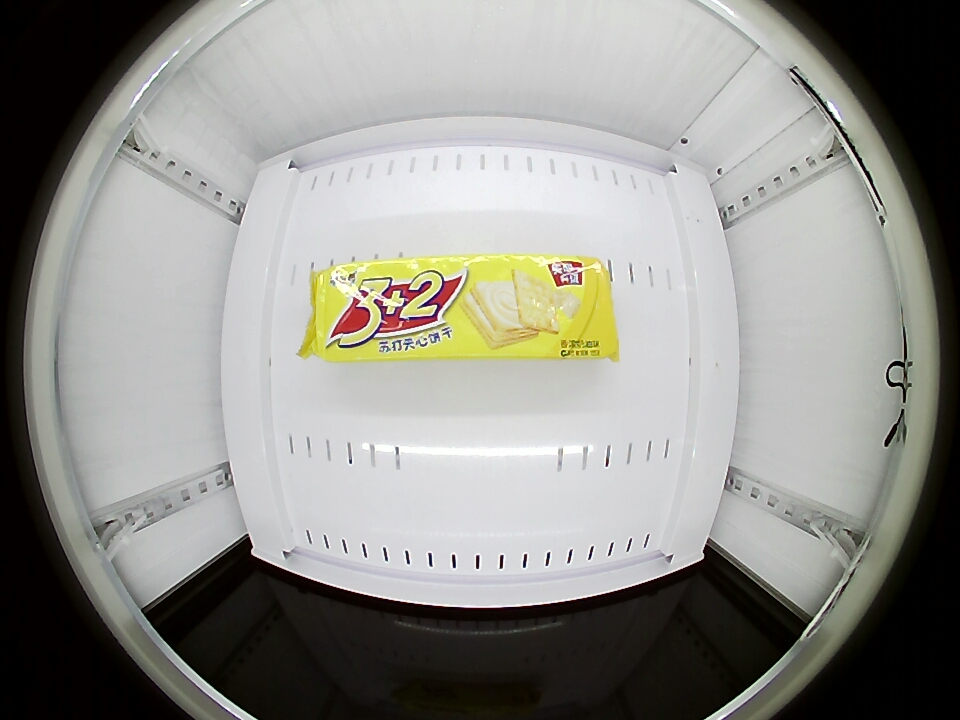3+2-2: (308, 255, 611, 360)
